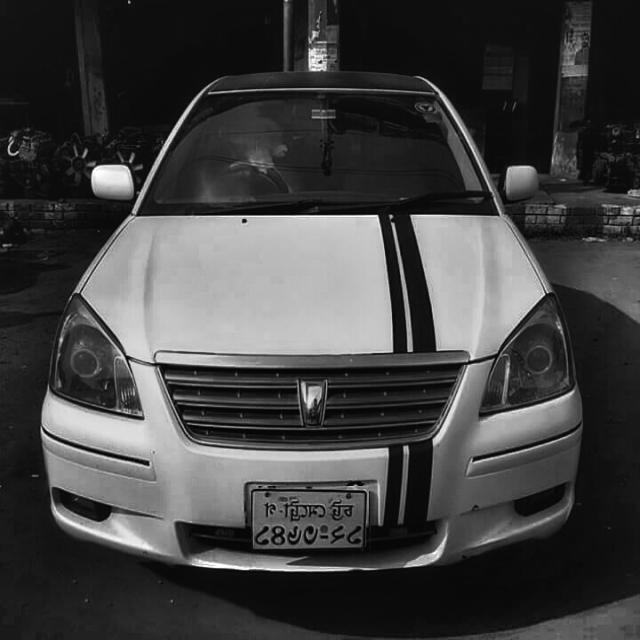numberplate: (252, 486, 370, 552)
